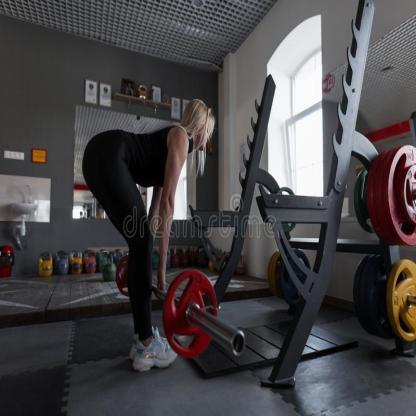barbell: (112, 250, 249, 364)
